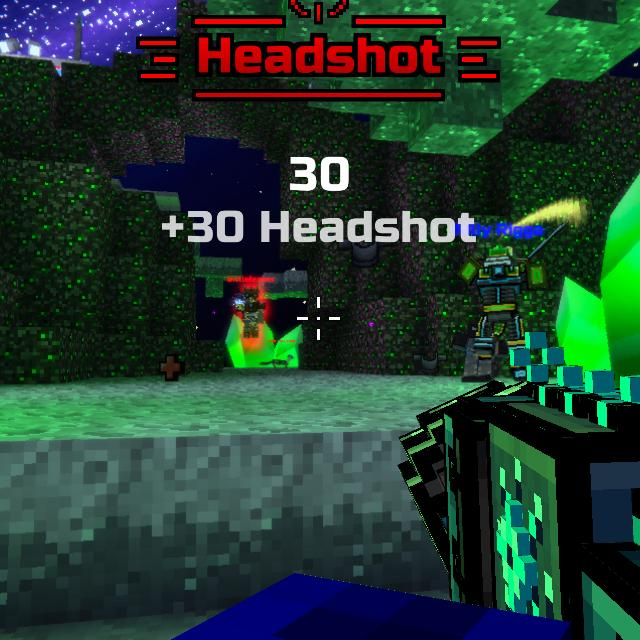Enemy: (235, 288, 266, 340)
